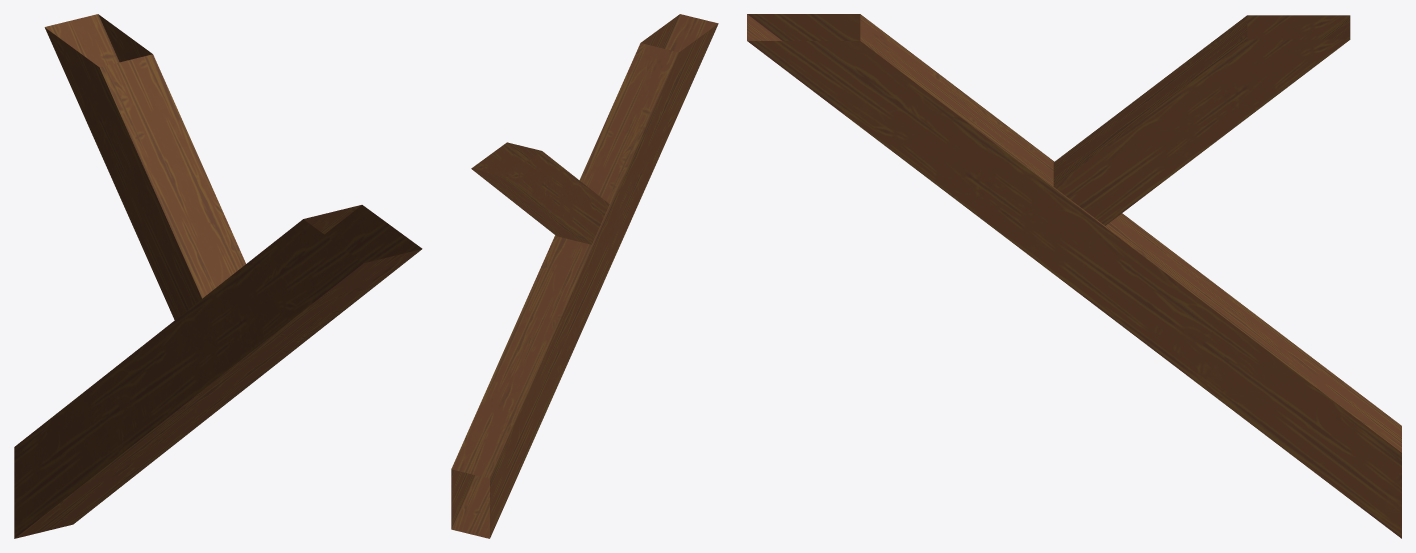
The model's file is Prop_Support.gltf.
The picture shows the model from 3 angles, left to right: view 1: azimuth 30°, elevation 25°; view 2: azimuth 150°, elevation 25°; view 3: azimuth 270°, elevation 25°; orthographic projection. The views are drawn at different scales.
Parts seen in each view (by area): view 1: Prop_Support; view 2: Prop_Support; view 3: Prop_Support.
Part boxes in pixels (x1,y1,x2,y2): Prop_Support: [14, 14, 422, 538]; Prop_Support: [451, 14, 718, 538]; Prop_Support: [747, 14, 1401, 538].
Size of what is drawn, in the model's own units: 0.1986 by 1.71 by 2.04.
Materials: 1 (1 with a texture image).
